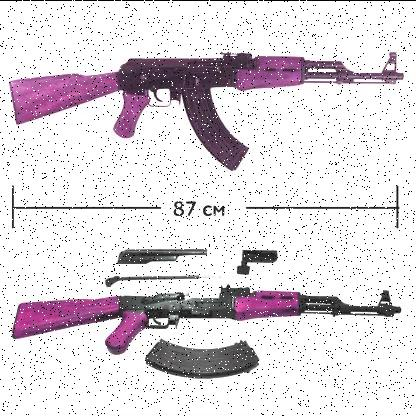rifle: (7, 34, 402, 181), (12, 265, 398, 399)
